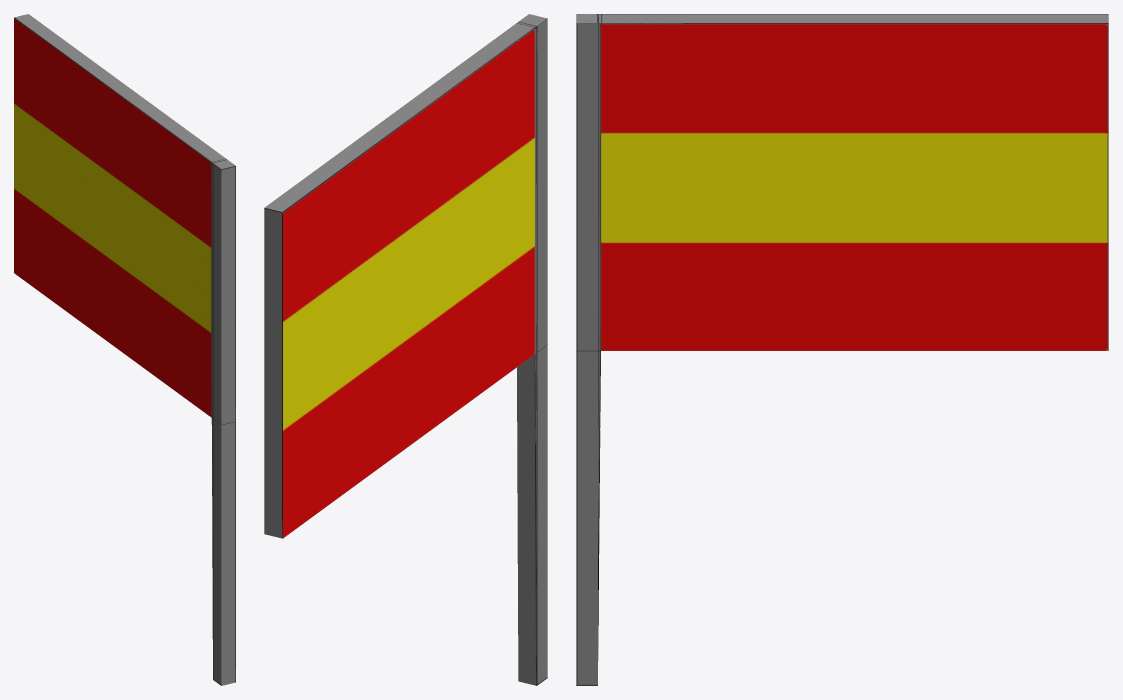
File: spainflag.obj
The picture shows the model from 3 angles, left to right: view 1: azimuth 30°, elevation 25°; view 2: azimuth 150°, elevation 25°; view 3: azimuth 270°, elevation 25°; orthographic projection. The views are drawn at different scales.
Parts seen in each view (by area): view 1: Cube_Cube.001; view 2: Cube_Cube.001; view 3: Cube_Cube.001.
Boxes of the visible parts, bbox=[...] form: Cube_Cube.001: bbox=[14, 14, 235, 685]; Cube_Cube.001: bbox=[264, 14, 547, 685]; Cube_Cube.001: bbox=[576, 14, 1108, 685].
Size of the model in its own units: 2 by 67.82 by 49.35.
